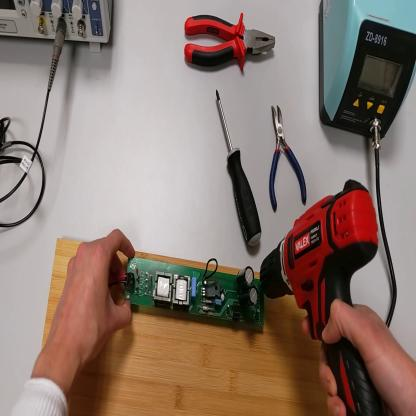electric screwdriver: (262, 182, 389, 414)
hand: (50, 229, 136, 367), (318, 300, 416, 415)
high voltage board: (110, 256, 267, 332)
oscilloscope: (2, 3, 115, 54)
oscilloscope probe tip: (3, 140, 12, 156)
pliers: (184, 9, 277, 67), (266, 104, 309, 215)
screwdriver-: (217, 93, 262, 249)
welder station: (319, 1, 416, 139)
working area: (42, 238, 328, 416)
